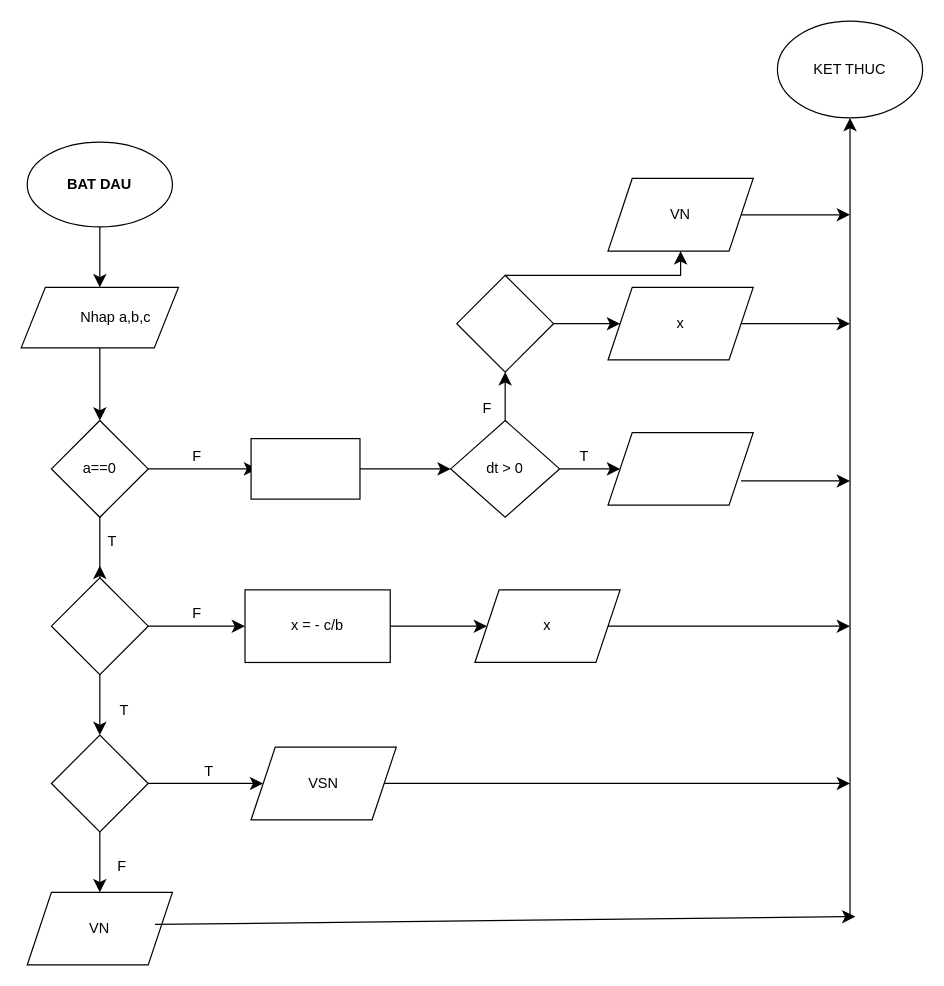
Image size: 944x986. Some labels were removed from this diagram. The shapes that lost their labels are listed below. From the top down, each one's centre as x and y in pixels, then its label:
pixel 505 323: dt == 0
pixel 305 468: dt
pixel 680 468: x1,x2
pixel 99 626: b==0
pixel 99 783: c==0
